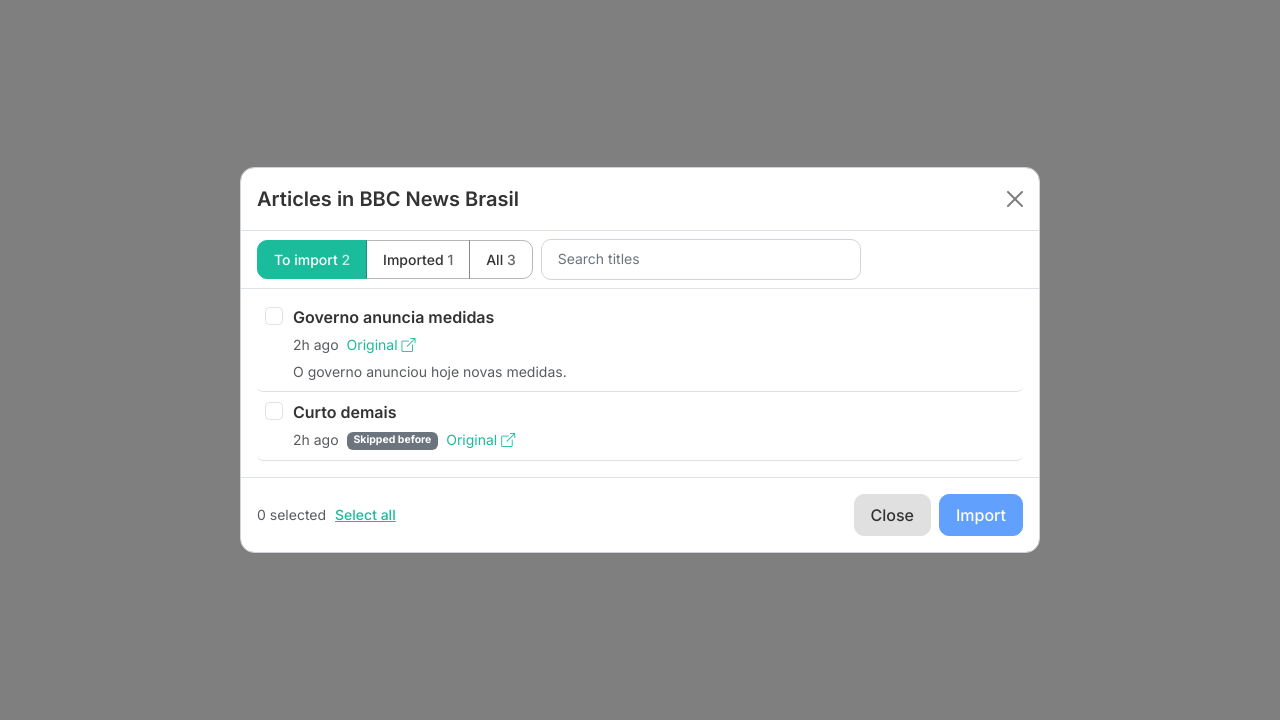
Test: NewsFeedBrowser › a click anywhere on a row picks it, except on its link
Expected: the text "Governo anuncia medidas" is shown, [293,306,494,326]
Click the text "O governo anunciou hoje novas medidas." at (430, 371), box [293,362,567,380]
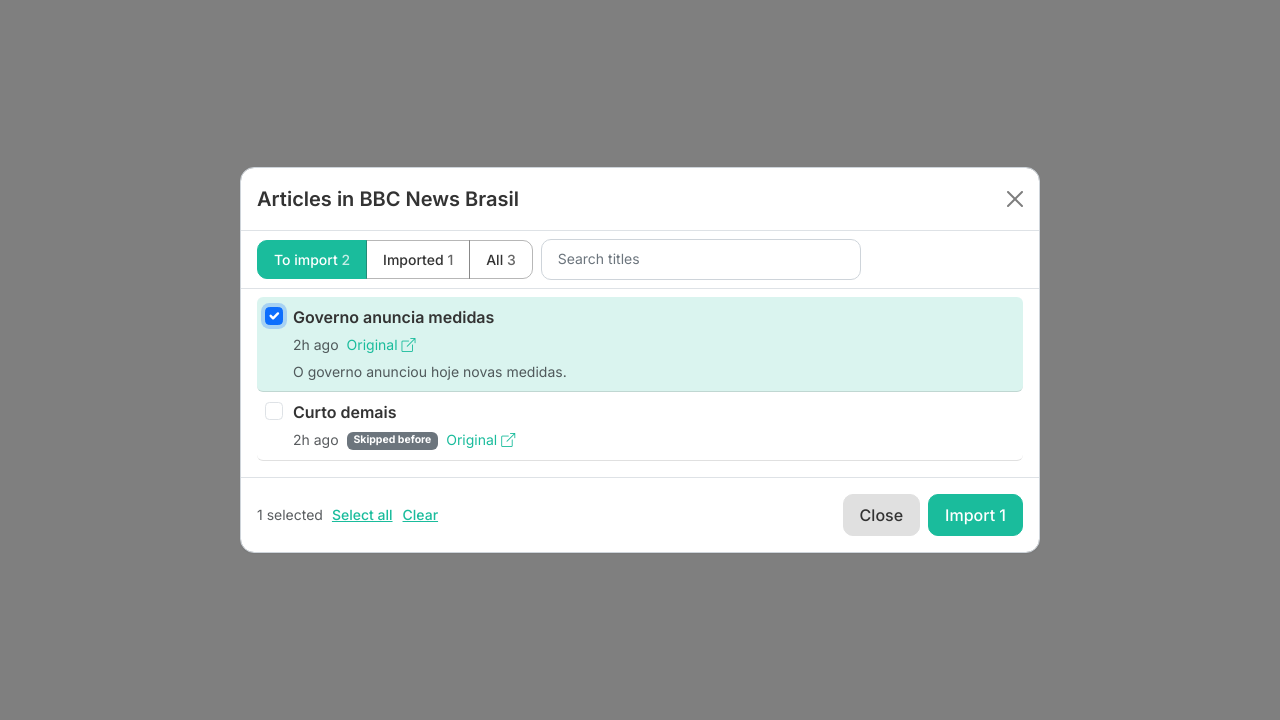
Now the checkbox named "Select Governo anuncia medidas" is checked, box [265,307,283,324]
Click the text "Curto demais" at (345, 412), box [293,402,396,422]
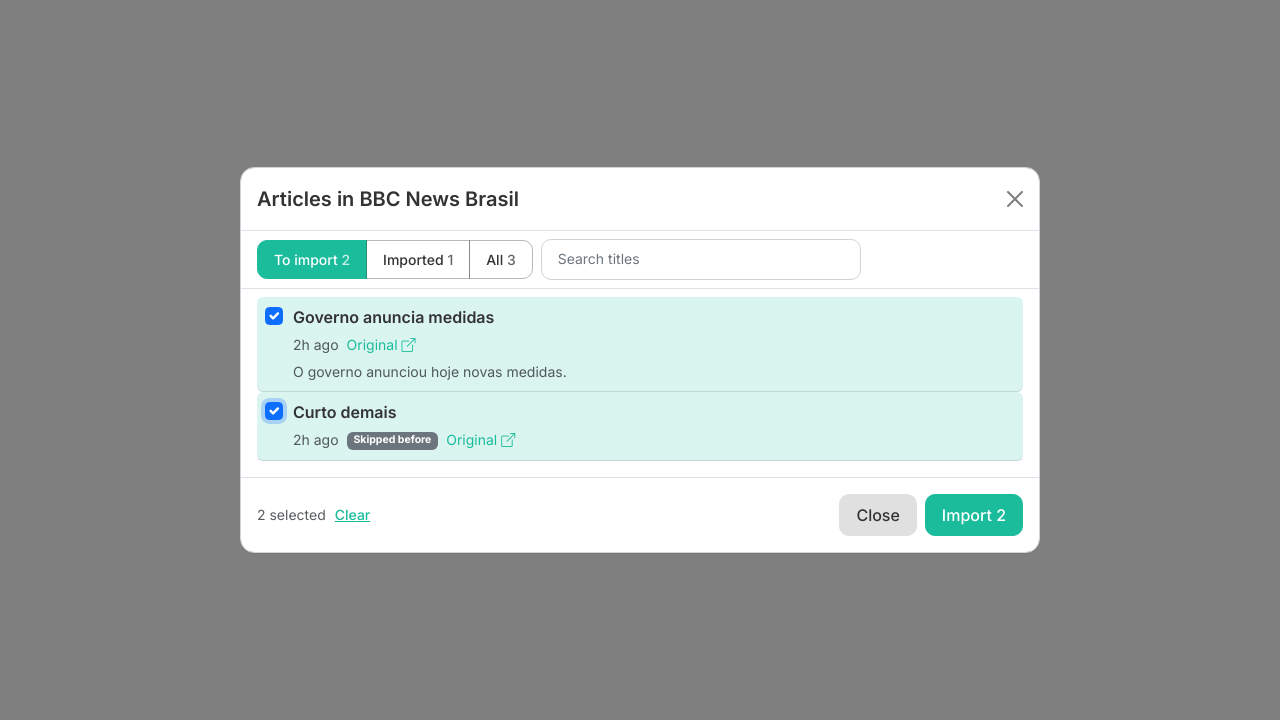
Now the text "2 selected" is shown, box [257,504,326,526]
Click the text "Governo anuncia medidas" at (394, 316), box [293,306,494,326]
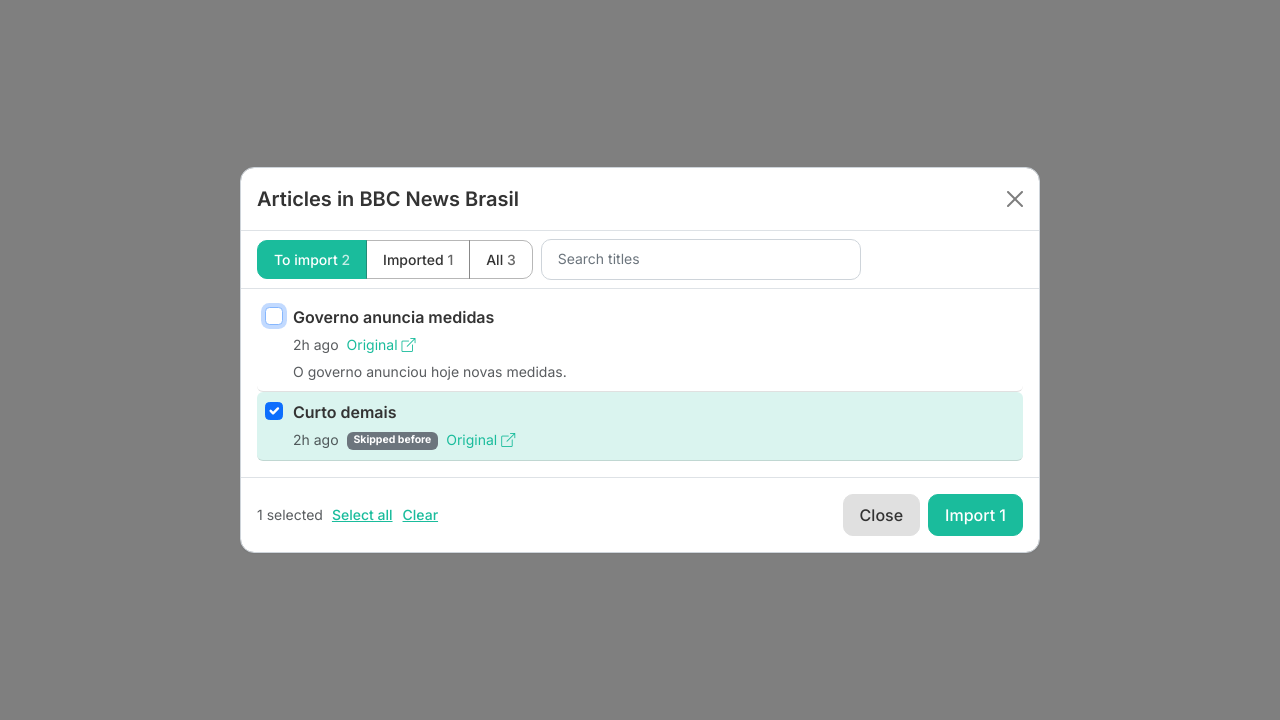
Now the text "1 selected" is shown, box [257,504,323,526]
